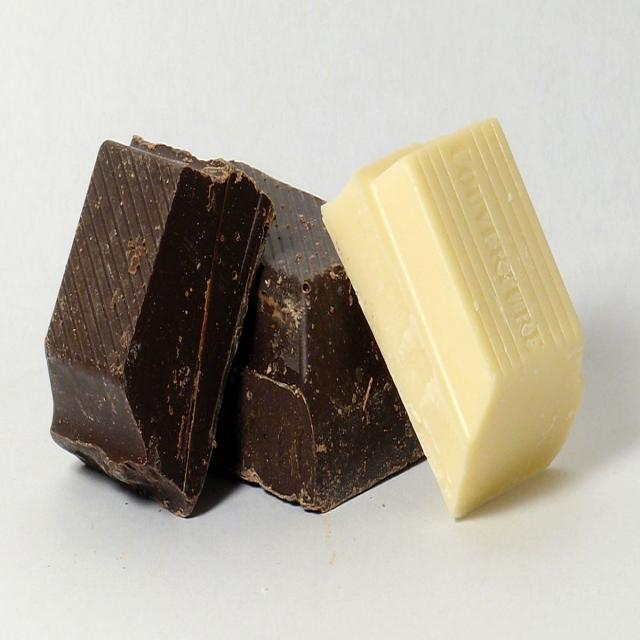Chocolate bar packaged: (317, 119, 587, 526), (44, 134, 275, 536)
